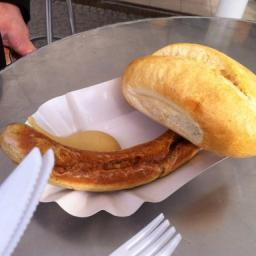hotdog: (58, 144, 144, 193), (148, 139, 182, 179), (1, 123, 56, 147), (6, 149, 23, 162)
